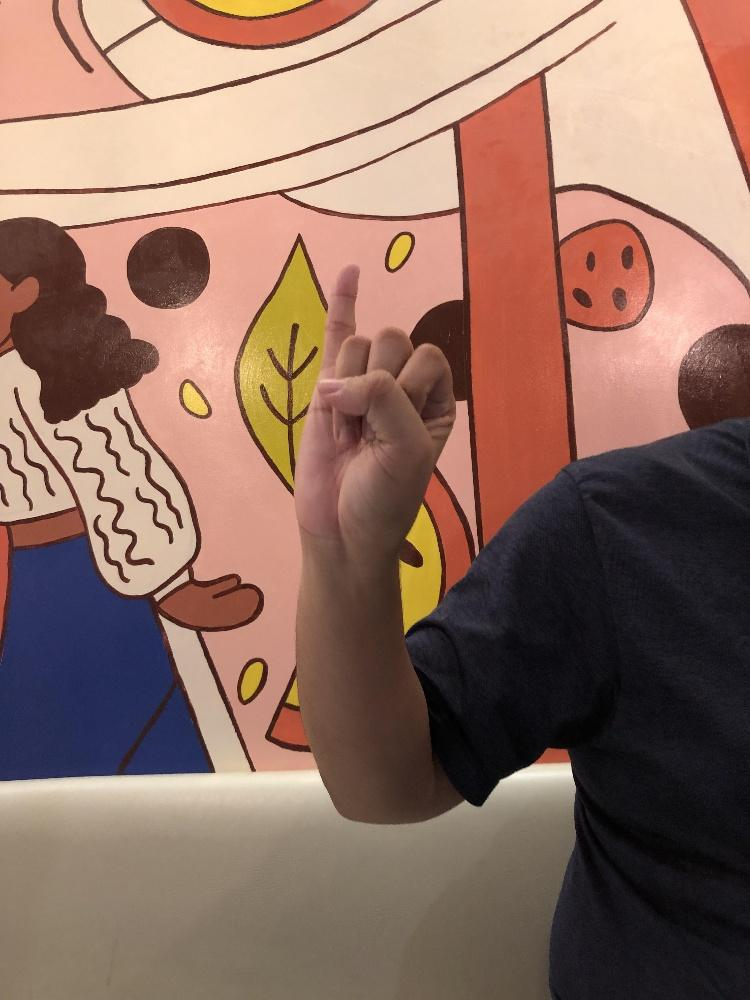i: (289, 259, 458, 553)
